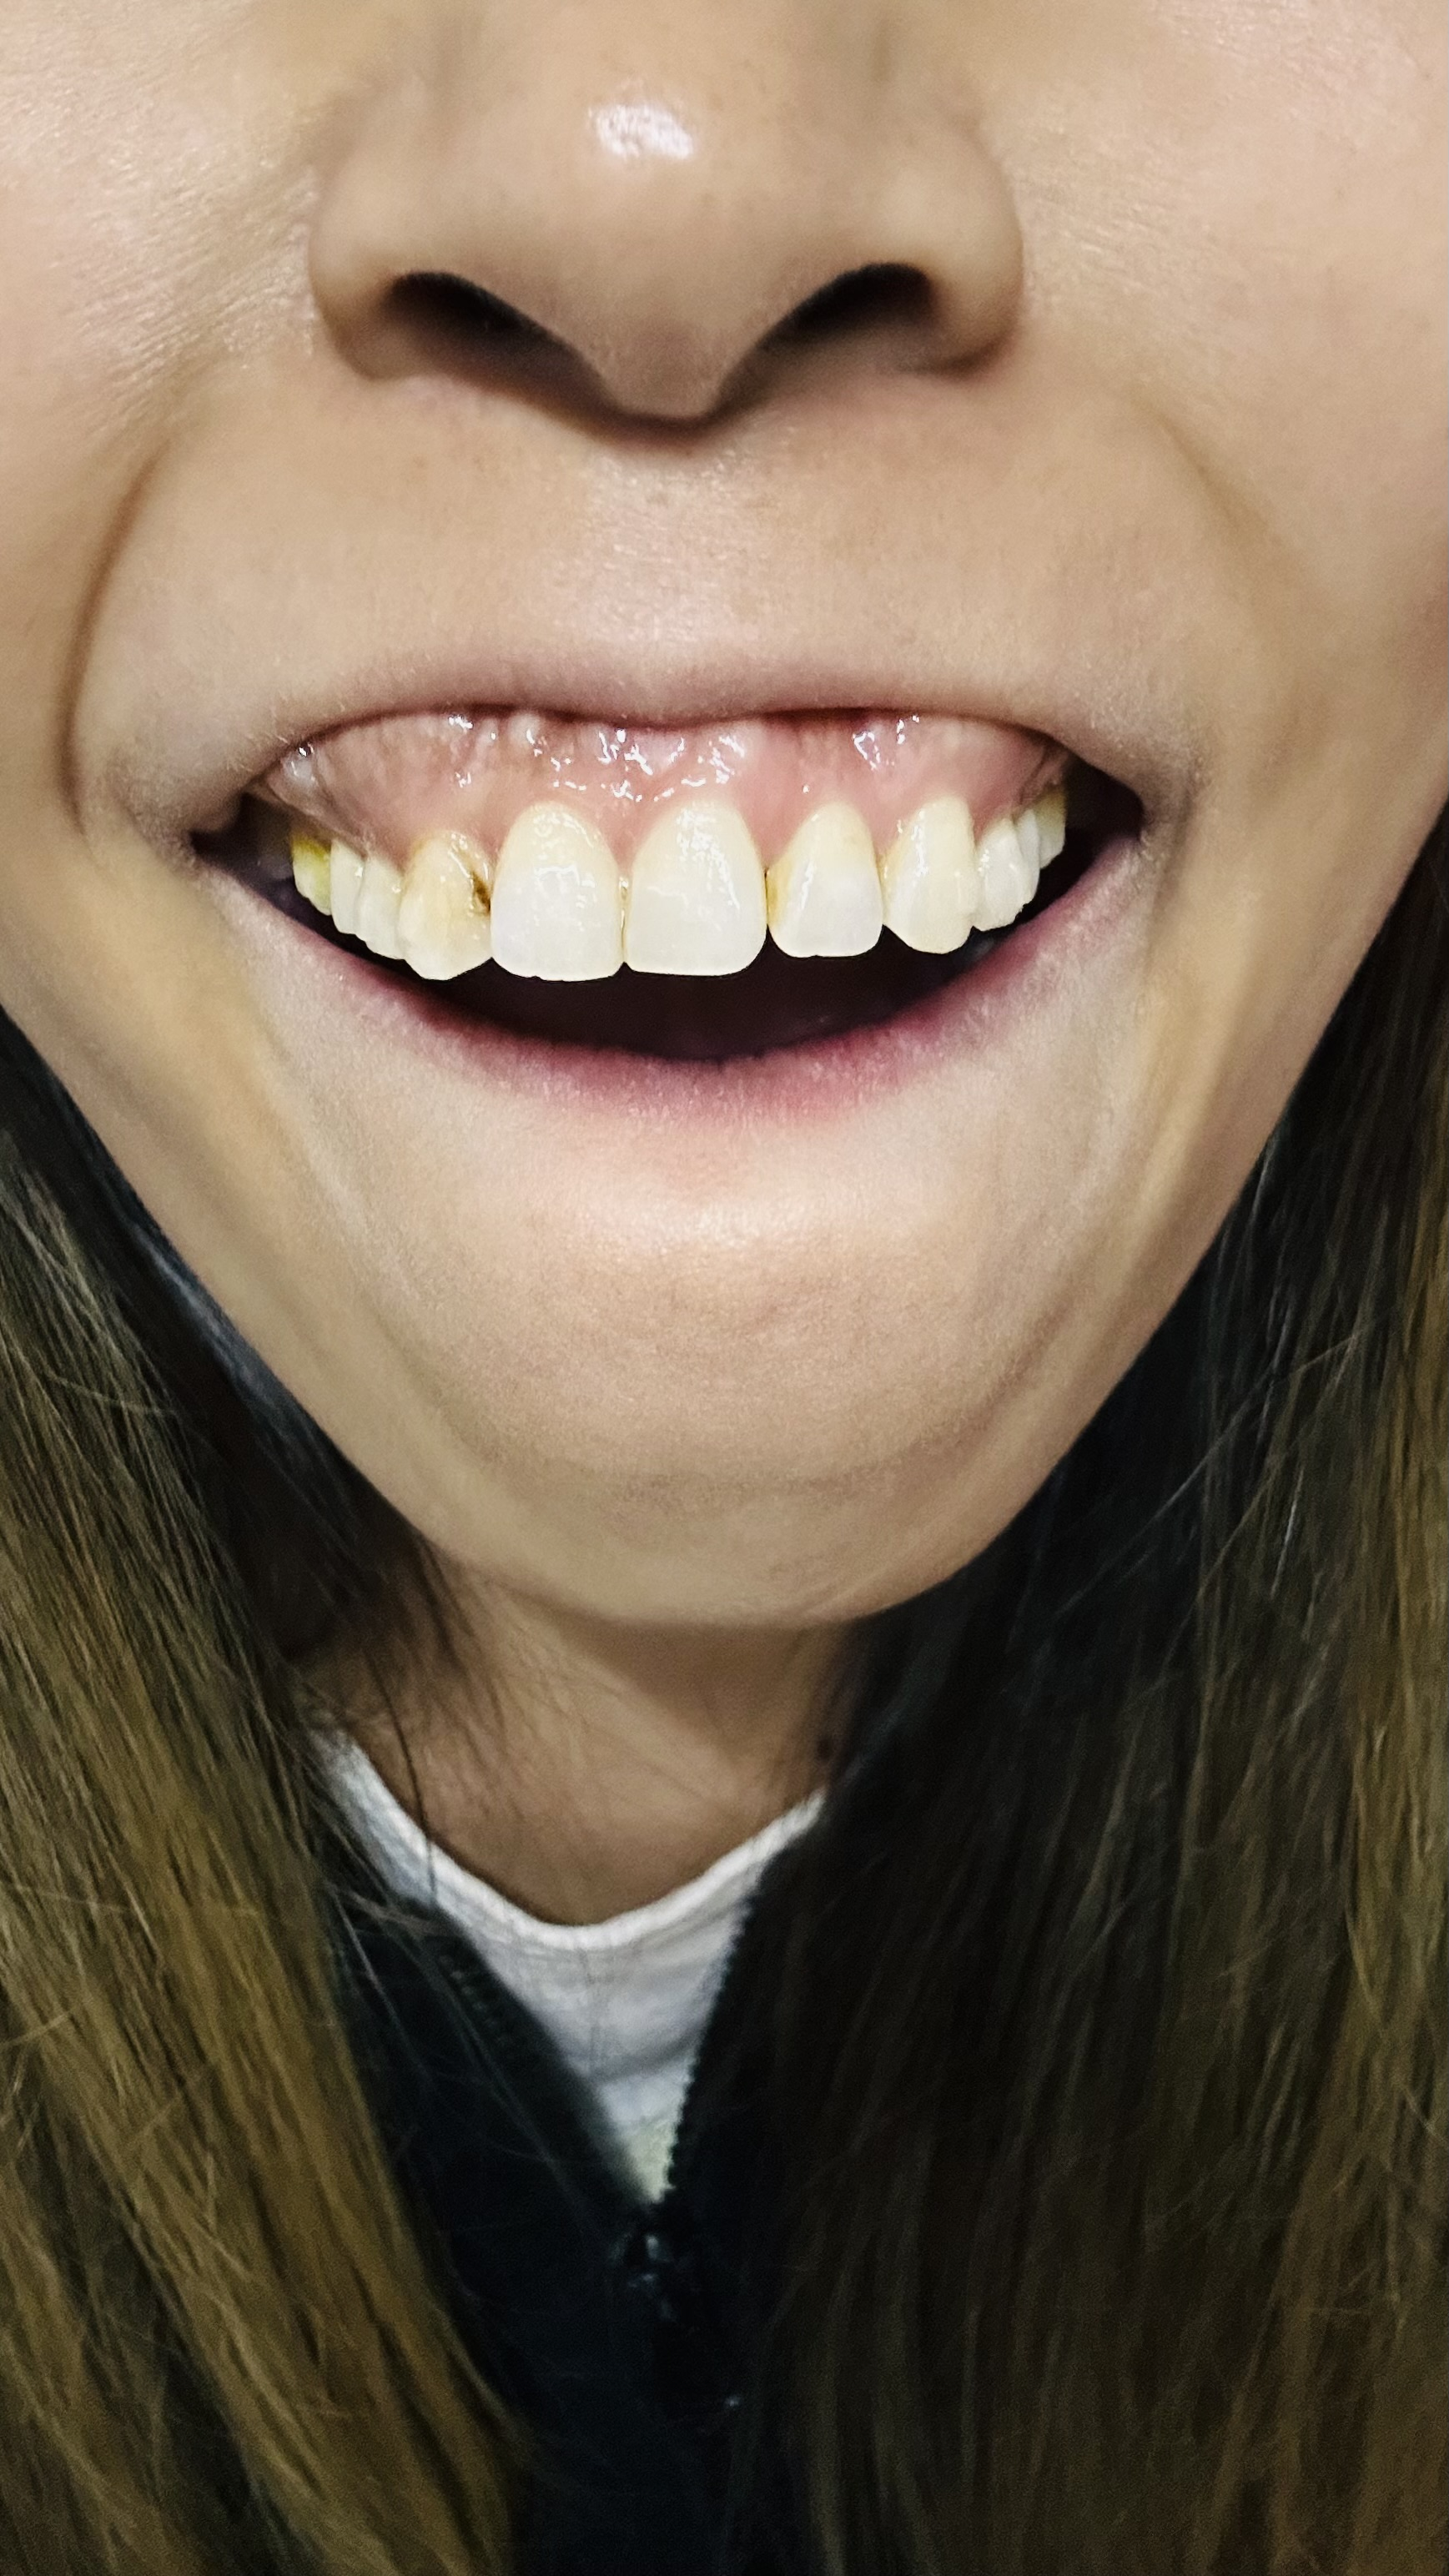teeth: (485, 793, 625, 982), (626, 803, 766, 971), (770, 796, 886, 950), (883, 786, 982, 948), (398, 837, 472, 971)
